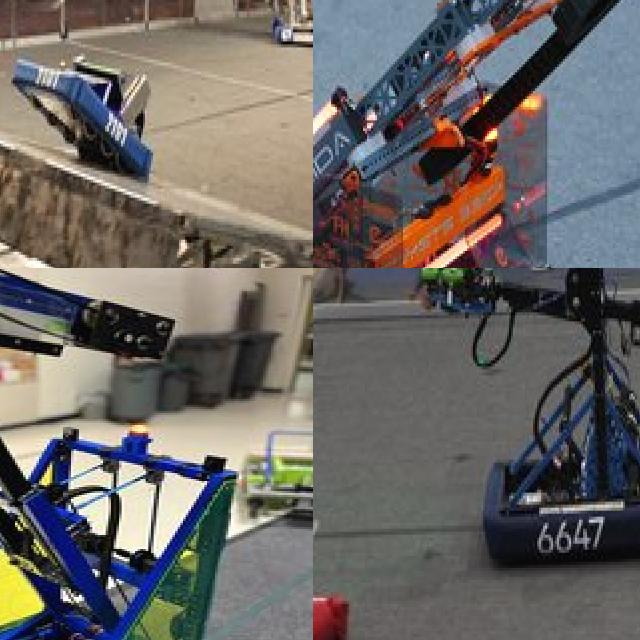FRC-Robots: (0, 268, 251, 640), (313, 0, 640, 268), (409, 268, 640, 582), (7, 32, 170, 184), (237, 0, 313, 52), (313, 575, 346, 640)
